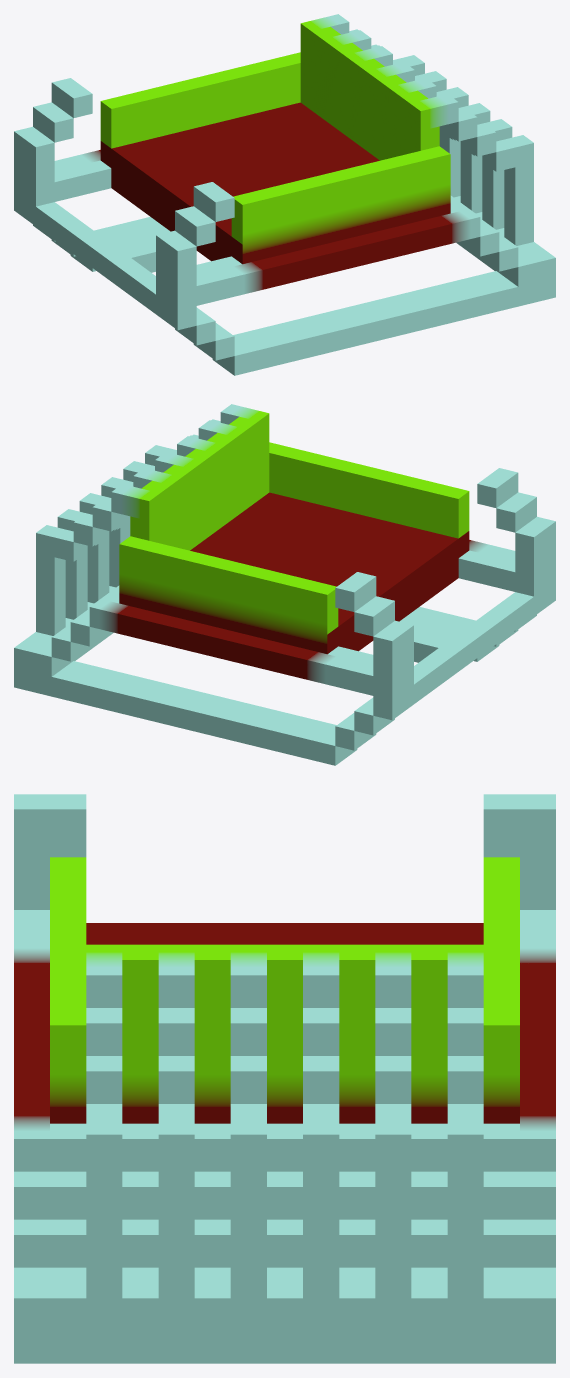
The model's file is Vehicle_6.fbx.
The picture shows the model from 3 angles, top to bottom: view 1: azimuth 30°, elevation 25°; view 2: azimuth 150°, elevation 25°; view 3: azimuth 270°, elevation 25°; orthographic projection. The views are drawn at different scales.
Parts seen in each view (by area): view 1: Vehicle_6; view 2: Vehicle_6; view 3: Vehicle_6.
Part boxes in pixels (x1,y1,x2,y2): Vehicle_6: [14, 14, 555, 375]; Vehicle_6: [14, 404, 555, 765]; Vehicle_6: [14, 794, 555, 1363].
Size of the model in its own units: 20 by 10 by 15.
Materials: 1 (1 with a texture image).
